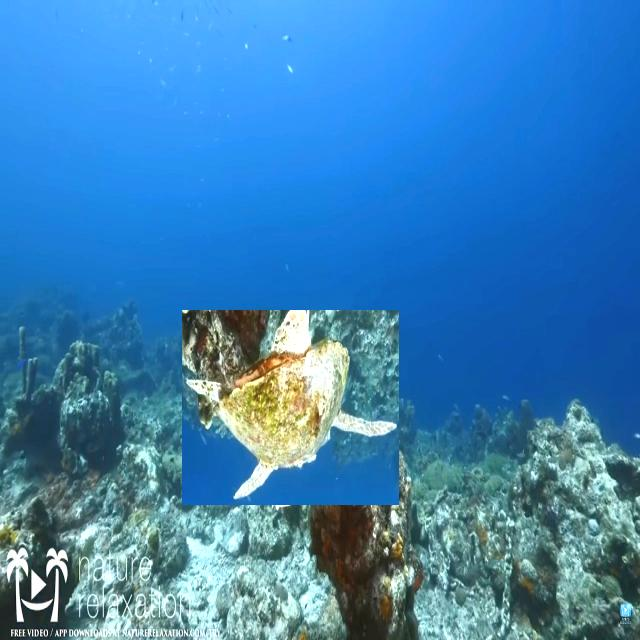Sea turtle: (182, 310, 399, 505)
